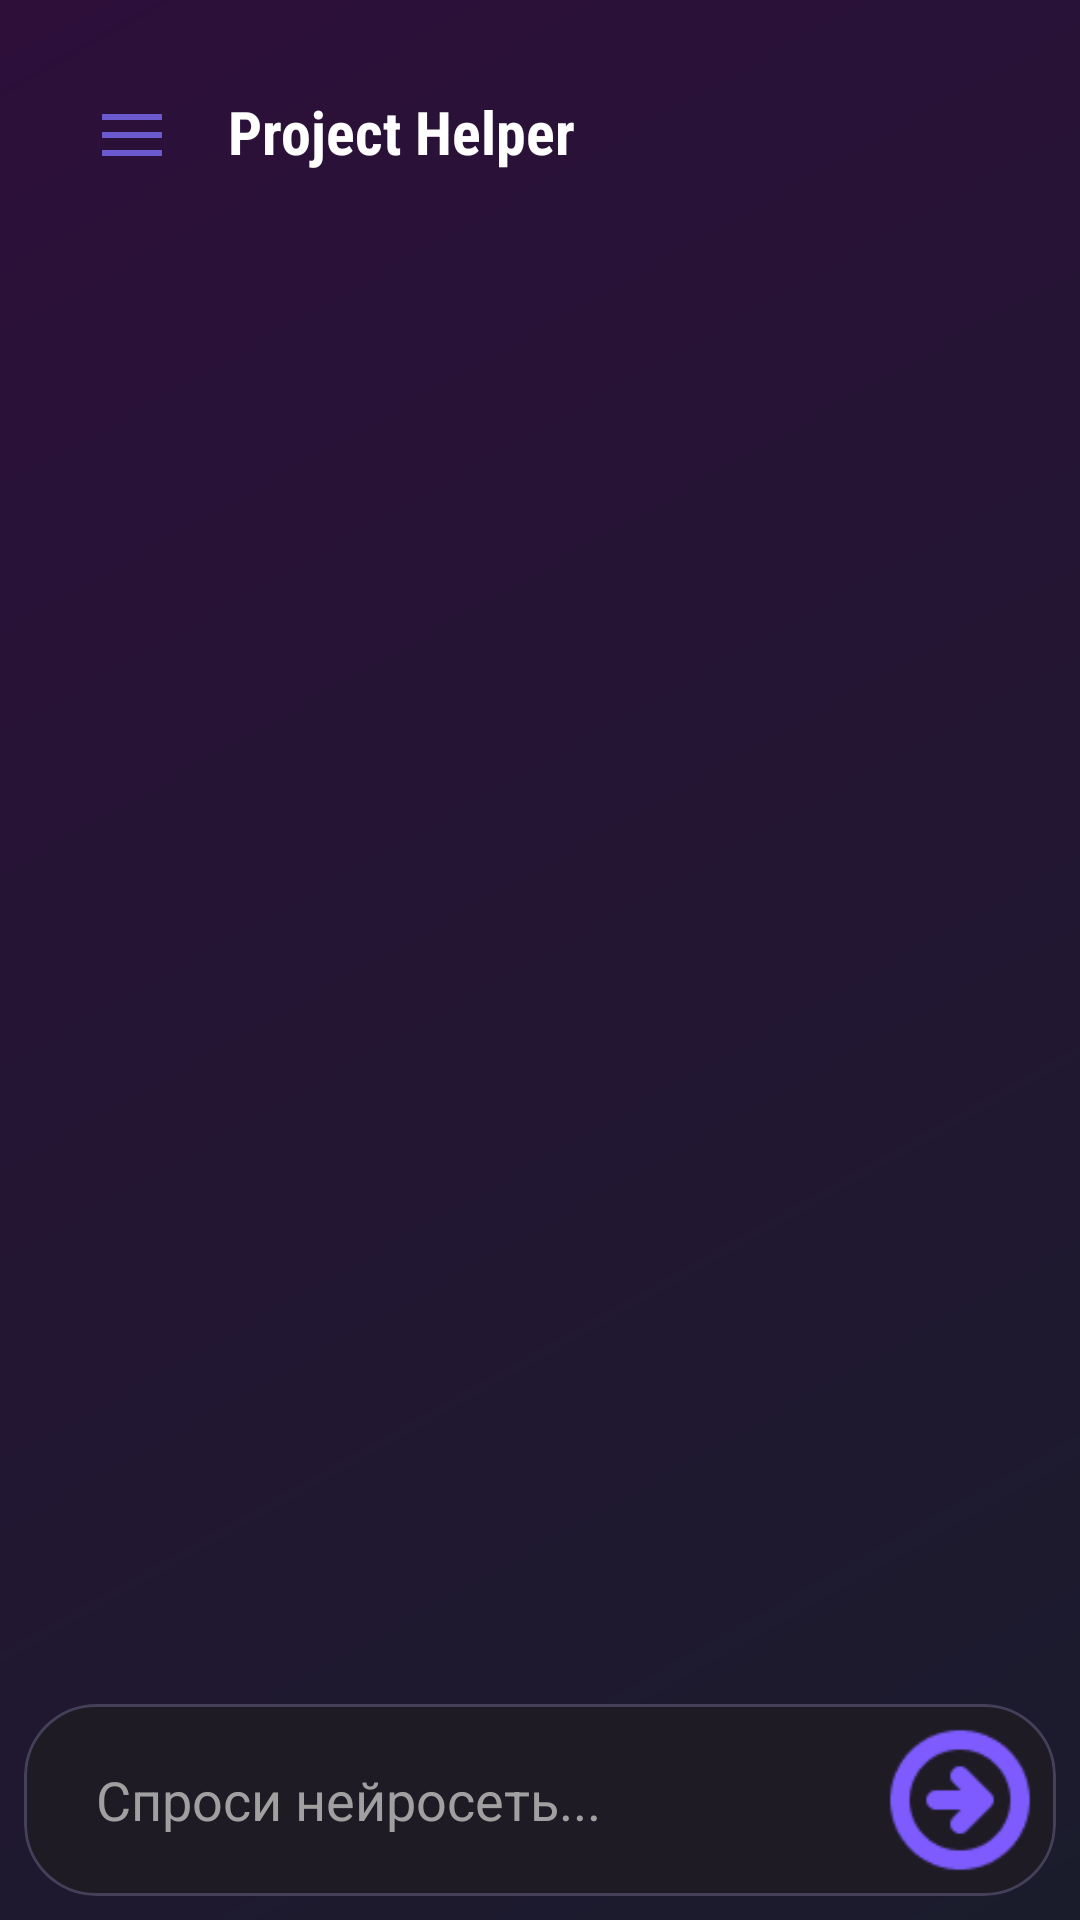

Where icons sit on this 1080 x 1920 app screen, as (x1, y1, x2, y2):
menu: (102, 114, 162, 156)
Отправить: (889, 1729, 1031, 1871)
